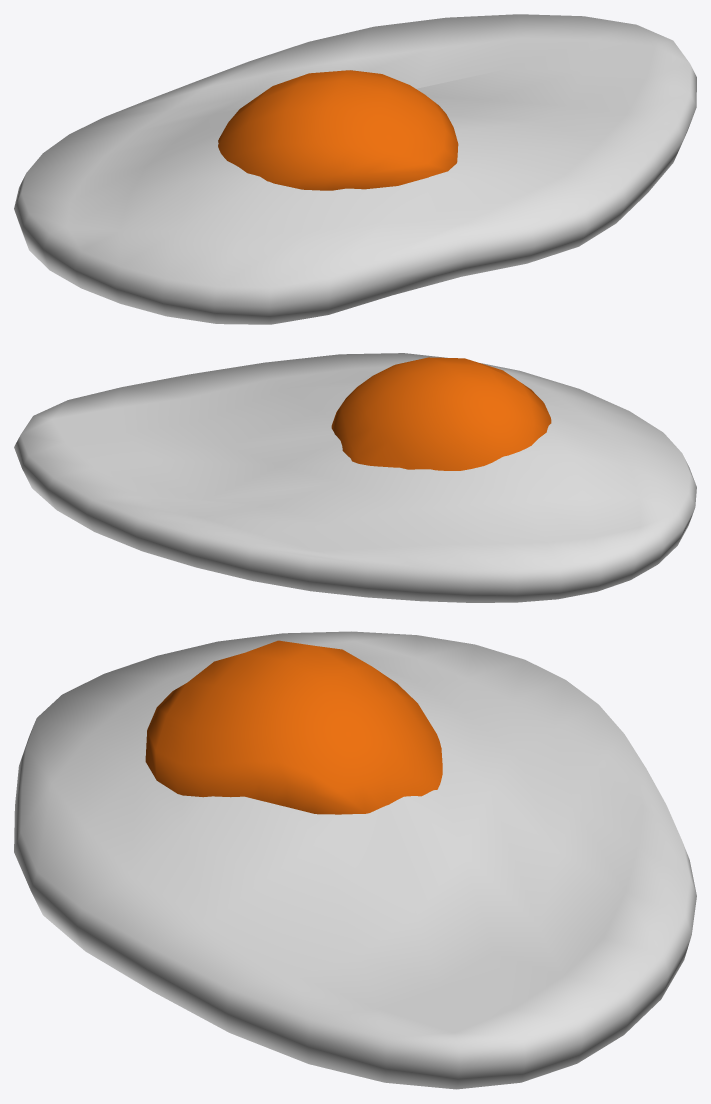
Rendered from friedEgg.glb.
3 views of the same model, one above another, from view 1: azimuth 30°, elevation 25°; view 2: azimuth 150°, elevation 25°; view 3: azimuth 270°, elevation 25° (orthographic). The views are drawn at different scales.
Parts seen in each view (by area): view 1: Circle.001; view 2: Circle.001; view 3: Circle.001.
Part boxes in pixels (<box>): Circle.001: <box>14,14,696,324</box>; Circle.001: <box>14,353,696,602</box>; Circle.001: <box>14,631,696,1089</box>.
Size of the model in its own units: 2.02 by 0.4427 by 1.38.
